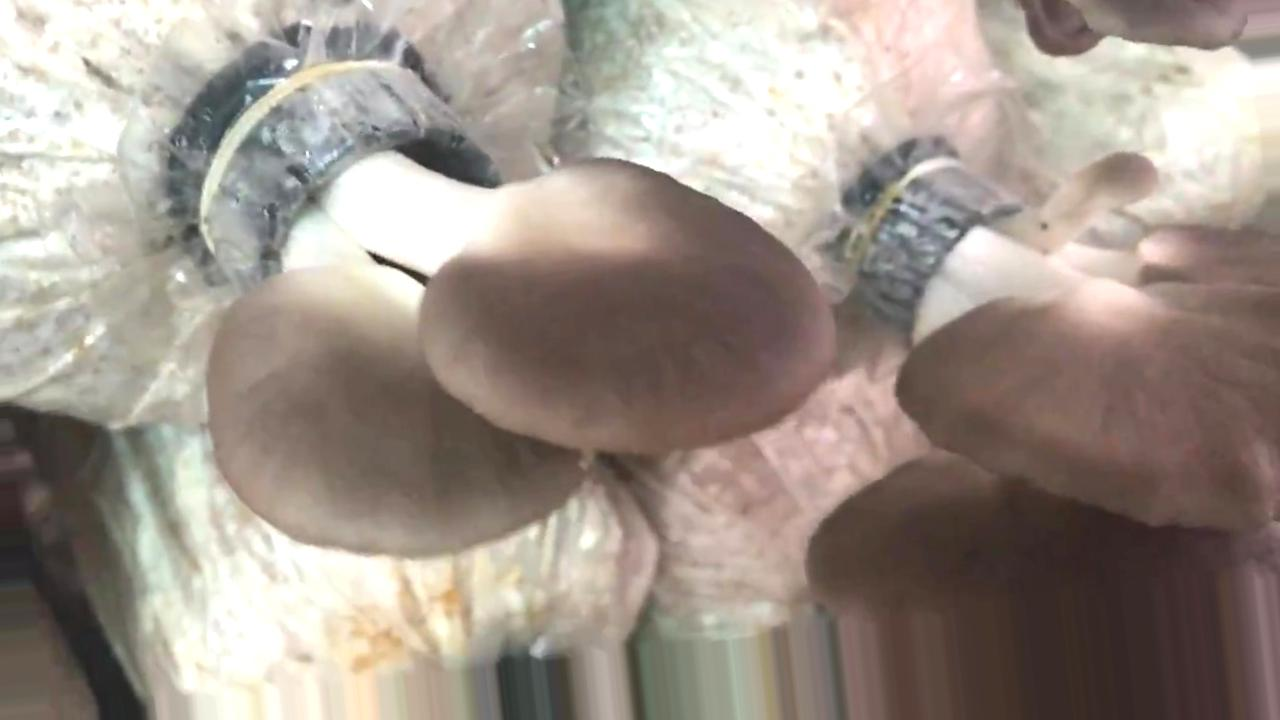nam: (205, 64, 838, 562), (807, 149, 1280, 719)
